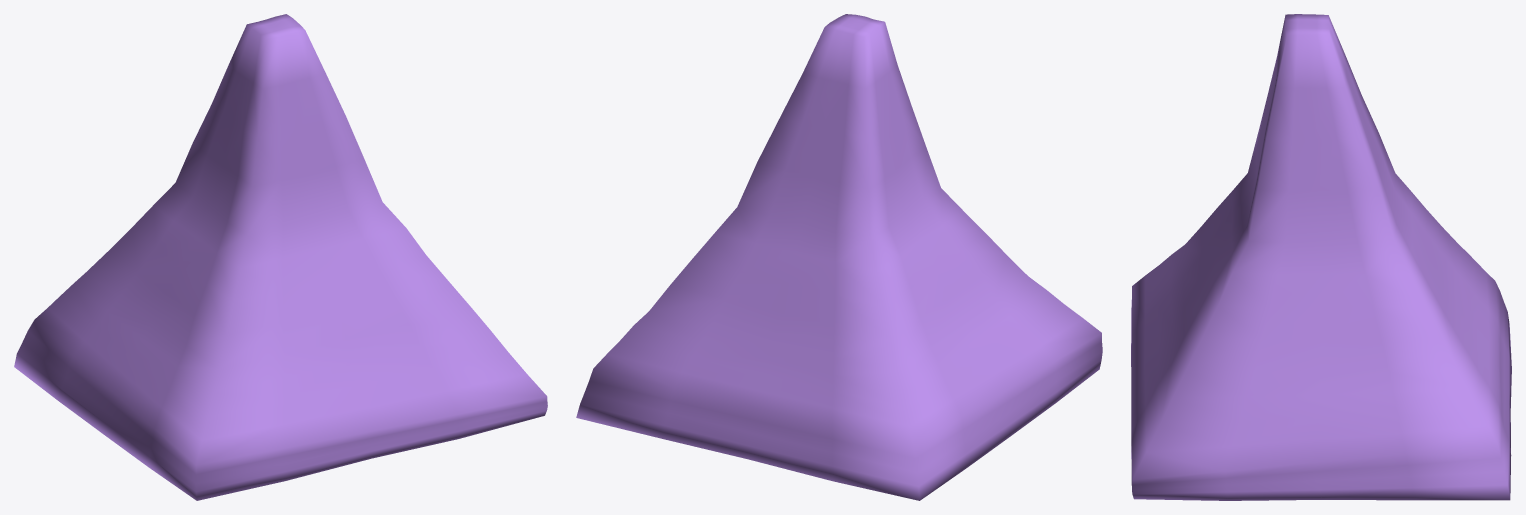
The model's file is mountain3.fbx.
3 renders of one model, left to right at view 1: azimuth 30°, elevation 25°; view 2: azimuth 150°, elevation 25°; view 3: azimuth 270°, elevation 25°, orthographic. The views are drawn at different scales.
Parts seen in each view (by area): view 1: mountain3; view 2: mountain3; view 3: mountain3.
Boxes of the visible parts, x1,y1,x2,y2 form: mountain3: [14, 14, 547, 500]; mountain3: [576, 14, 1102, 500]; mountain3: [1131, 14, 1511, 500].
Bounding box in the file's own units: 6868 × 6983 × 6257.
